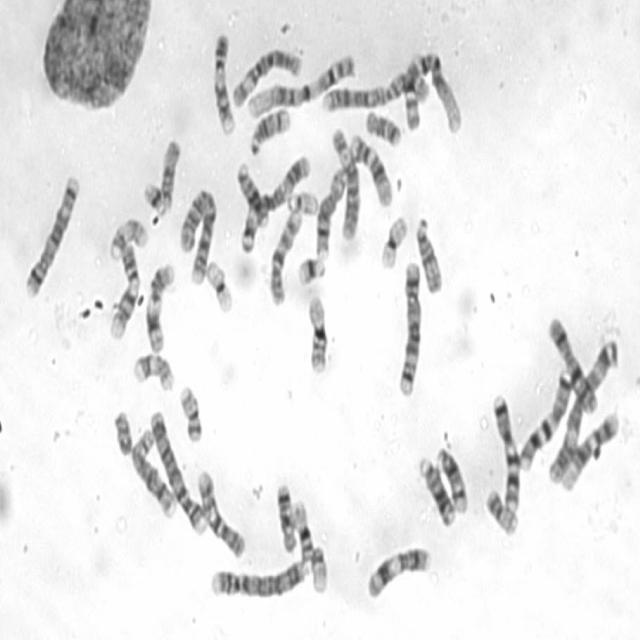A1: (243, 46, 357, 118), (401, 45, 464, 135)
A2: (316, 64, 431, 114), (176, 180, 219, 288)
A3: (545, 332, 620, 488), (237, 148, 312, 255)
B4: (146, 403, 209, 538), (208, 550, 312, 602)
B5: (21, 167, 82, 300), (394, 255, 423, 398)
C10: (193, 462, 248, 561), (265, 200, 304, 307)
C11: (363, 539, 433, 600), (143, 256, 177, 354)
C12: (558, 405, 620, 492), (346, 127, 394, 208)
C6: (228, 42, 302, 109), (328, 121, 362, 242)
C7: (516, 364, 573, 472), (488, 386, 522, 516)
C8: (127, 420, 179, 520), (313, 160, 349, 262)
C9: (106, 236, 142, 341), (210, 26, 238, 136)
D13: (416, 449, 458, 528), (234, 157, 270, 228)
D14: (433, 440, 469, 514), (247, 101, 292, 156)
D15: (413, 210, 445, 296), (157, 132, 182, 210)
E16: (304, 287, 330, 375), (290, 495, 316, 563)
E17: (106, 210, 149, 262), (130, 347, 177, 393)
E18: (273, 476, 298, 554), (362, 104, 404, 148)
F19: (202, 252, 235, 316), (377, 208, 409, 271)
F20: (482, 480, 521, 538), (176, 377, 205, 443)
G21: (294, 250, 328, 288), (140, 176, 167, 215)
G22: (307, 539, 330, 596), (283, 183, 320, 216)
X: (544, 309, 599, 416)
Y: (111, 404, 134, 457)
